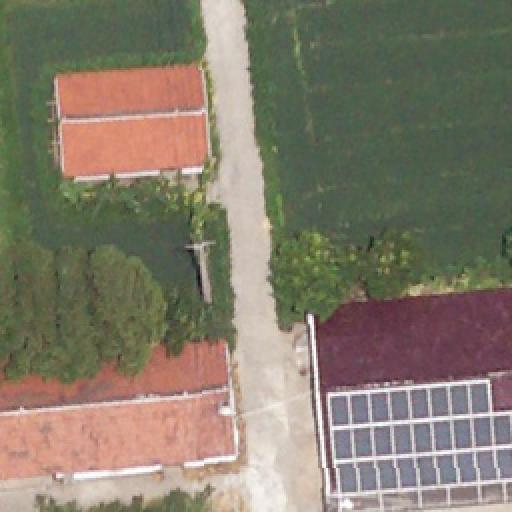solar-panel: (328, 377, 512, 495)
